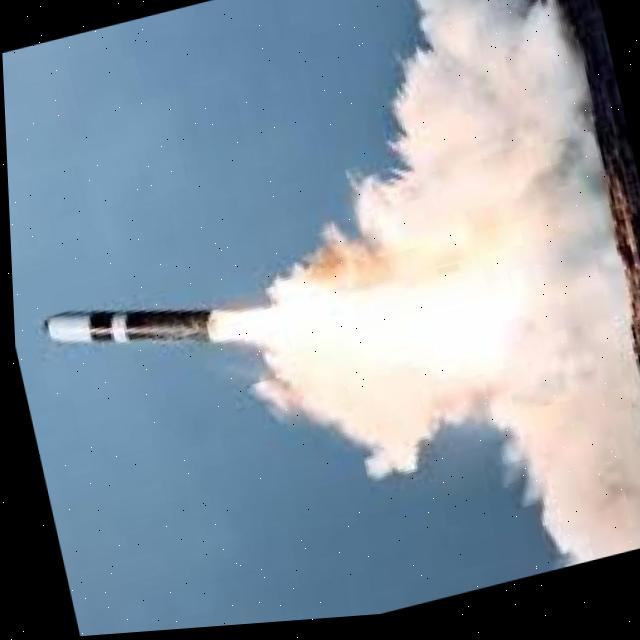missile: (36, 279, 221, 391)
